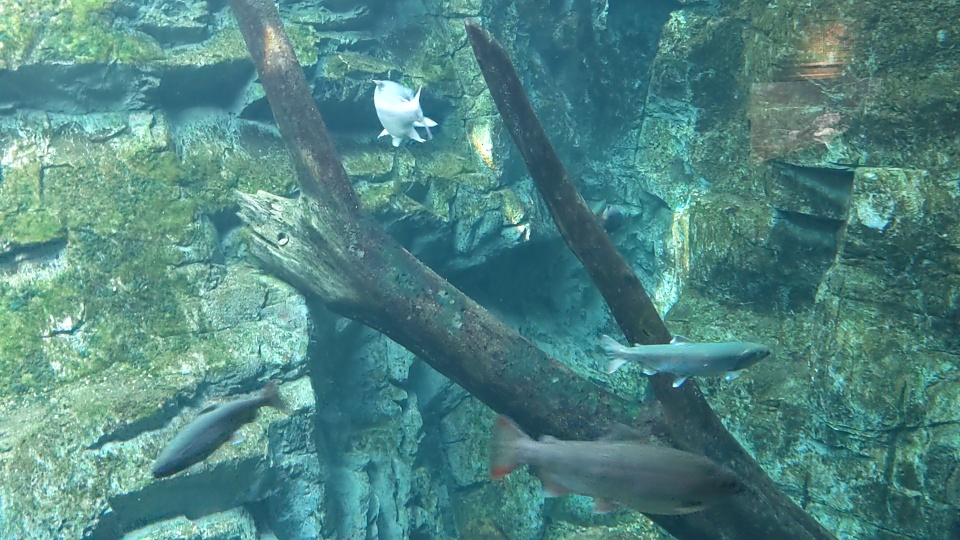Fish: (485, 407, 751, 517), (149, 390, 286, 480), (596, 329, 767, 390), (367, 73, 434, 149)
